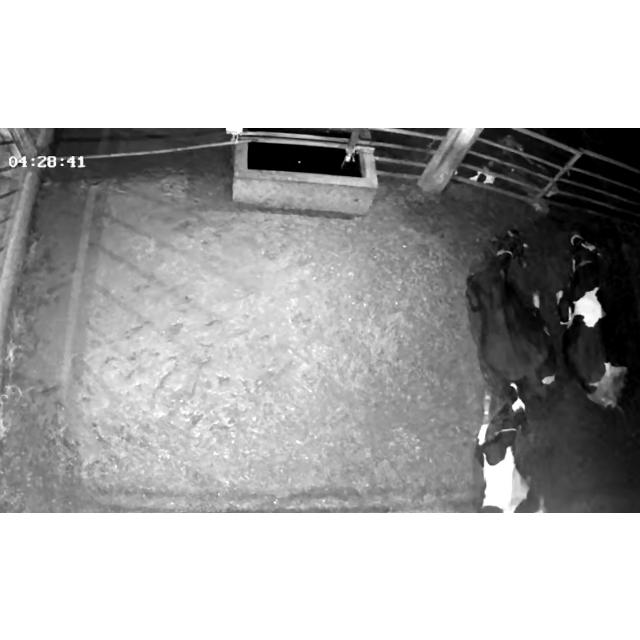lay: (454, 217, 560, 403), (552, 222, 640, 418), (472, 380, 560, 512)
